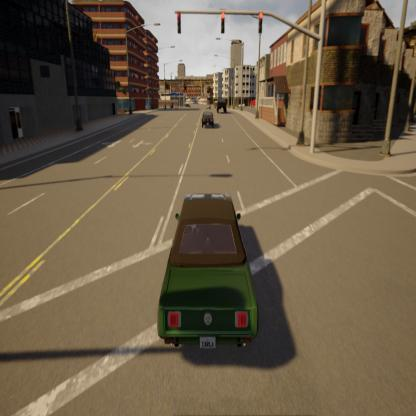Cars: (138, 175, 265, 349), (193, 103, 214, 145), (214, 85, 234, 125)
